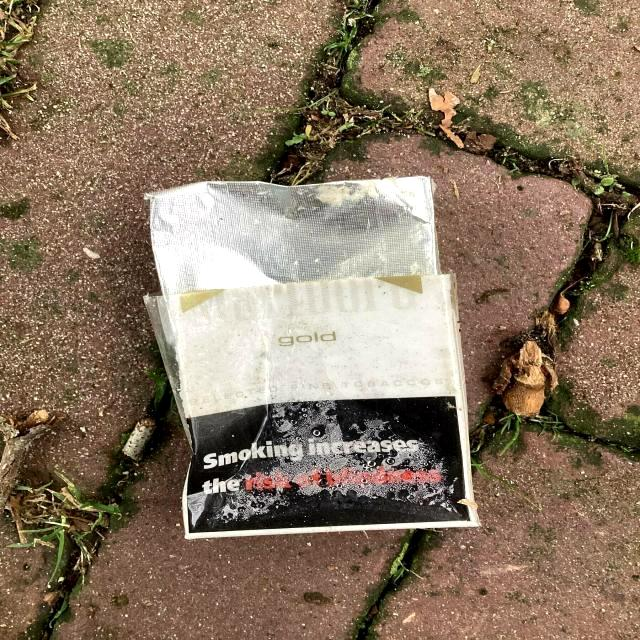Paper: (132, 170, 486, 544)
